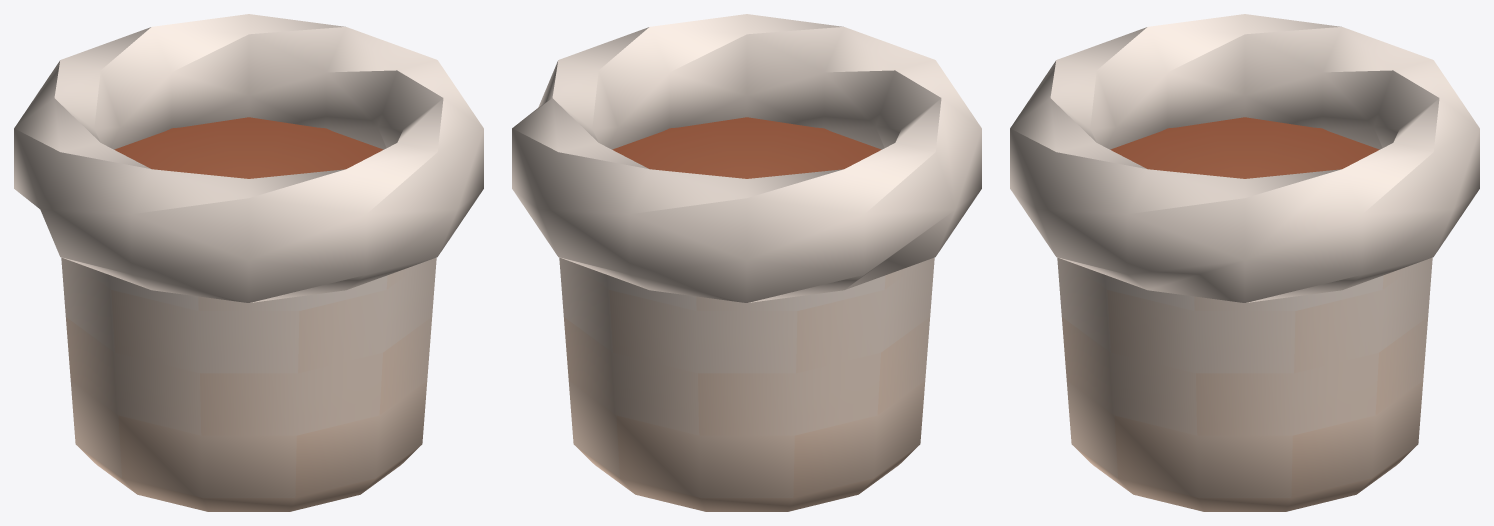
Rendered from pot-d-small.glb.
The picture shows the model from 3 angles, left to right: view 1: azimuth 30°, elevation 25°; view 2: azimuth 150°, elevation 25°; view 3: azimuth 270°, elevation 25°; orthographic projection.
Visible parts, largest first — view 1: pot_D_small; view 2: pot_D_small; view 3: pot_D_small.
Part boxes in pixels (<box>): pot_D_small: <box>14,14,483,511</box>; pot_D_small: <box>512,14,981,511</box>; pot_D_small: <box>1010,14,1479,511</box>.
Bounding box in the file's own units: 0.5 × 0.4 × 0.4872.
1 material, 1 textured.
